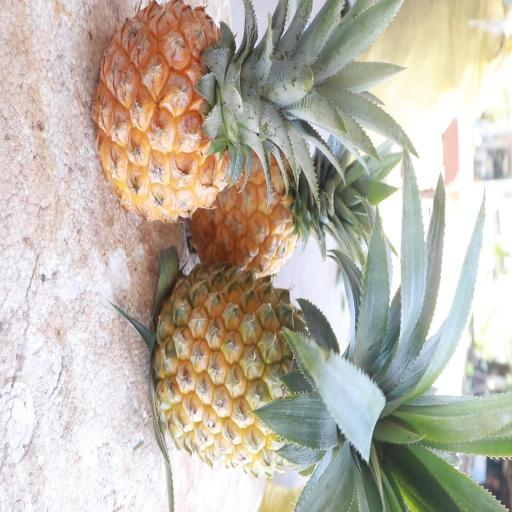Pineapple - v8 v1: (149, 256, 400, 472), (90, 1, 310, 229), (186, 129, 348, 277)
